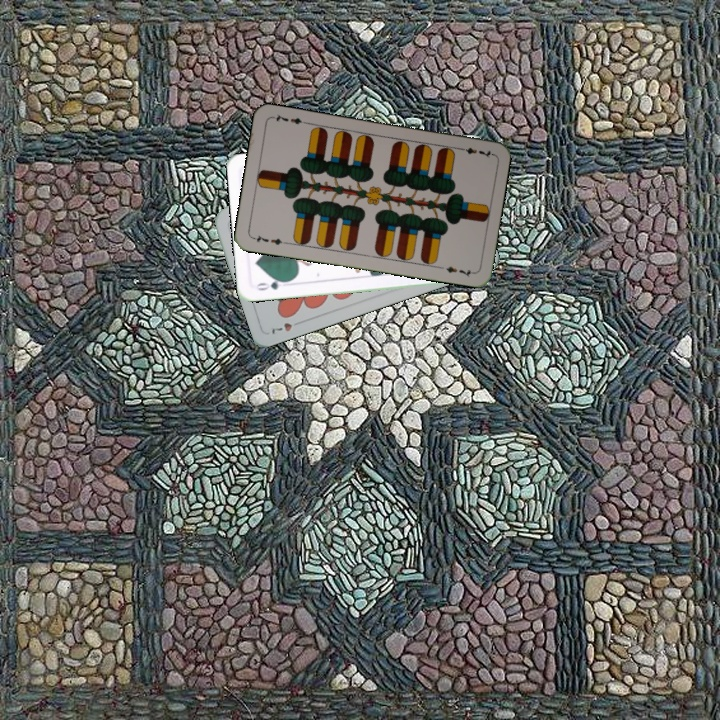E7: (249, 231, 289, 248), (454, 143, 494, 160)
GO: (252, 275, 291, 293)
H7: (266, 318, 294, 337)
